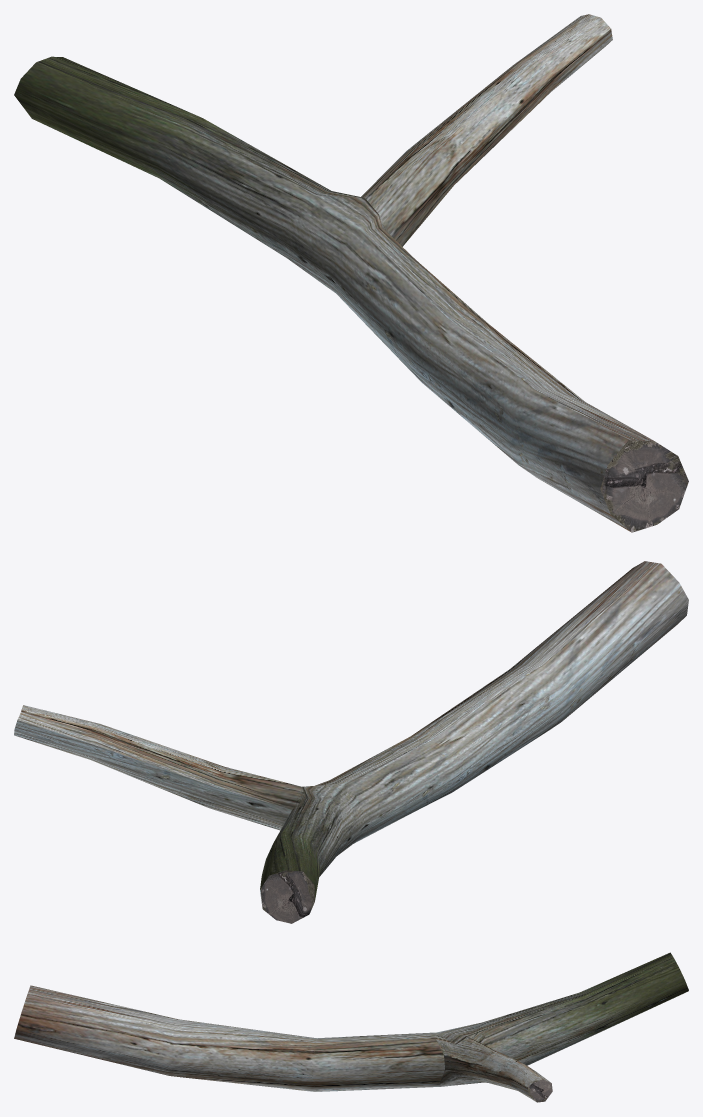
The model's file is PaloArrojadizo.FBX.
3 renders of one model, top to bottom at view 1: azimuth 30°, elevation 25°; view 2: azimuth 150°, elevation 25°; view 3: azimuth 270°, elevation 25°, orthographic. The views are drawn at different scales.
Parts seen in each view (by area): view 1: Palorrojadizo; view 2: Palorrojadizo; view 3: Palorrojadizo.
Boxes of the visible parts, x1=… form: Palorrojadizo: x1=14, y1=14, x2=688, y2=532; Palorrojadizo: x1=14, y1=561, x2=688, y2=923; Palorrojadizo: x1=14, y1=952, x2=688, y2=1102.
Size of the model in its own units: 126 by 42.55 by 249.
